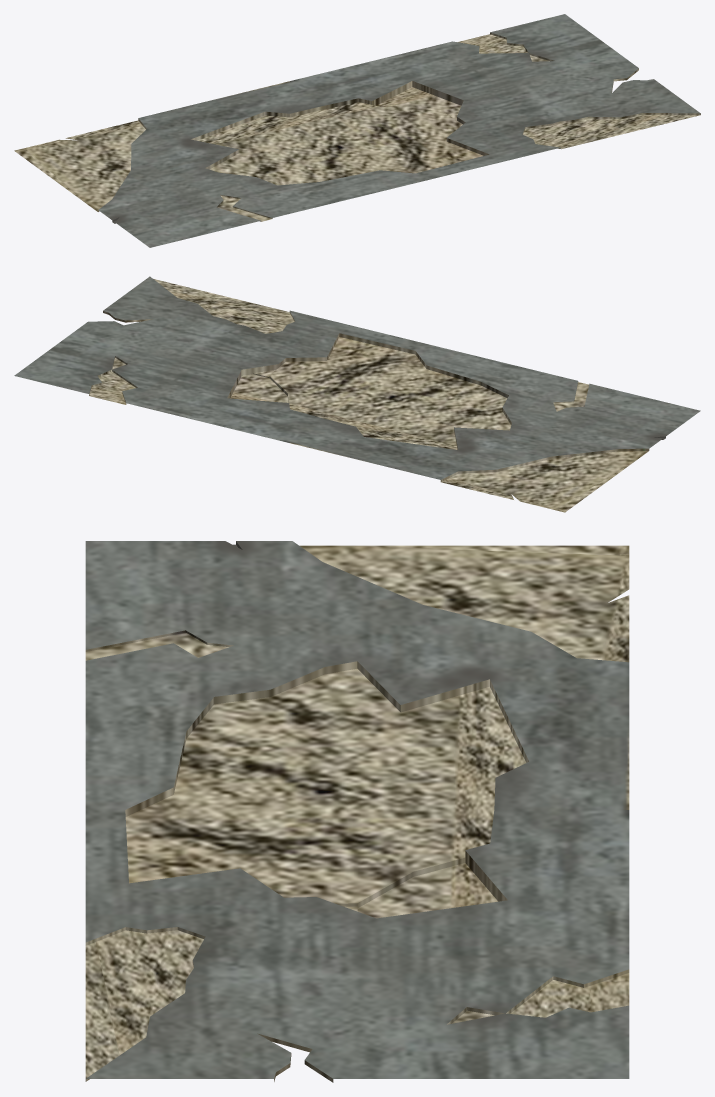
Rendered from gaiheki.fbx.
3 views of the same model, one above another, from view 1: azimuth 30°, elevation 25°; view 2: azimuth 150°, elevation 25°; view 3: azimuth 270°, elevation 25° (orthographic). The views are drawn at different scales.
Parts seen in each view (by area): view 1: Plane001; view 2: Plane001; view 3: Plane001.
Part boxes in pixels (x1,y1,x2,y2): Plane001: [14, 14, 700, 247]; Plane001: [14, 276, 700, 512]; Plane001: [85, 541, 629, 1082].
Bounding box in the file's own units: 42.77 × 0.4693 × 18.28.
Materials: 1 (1 with a texture image).
